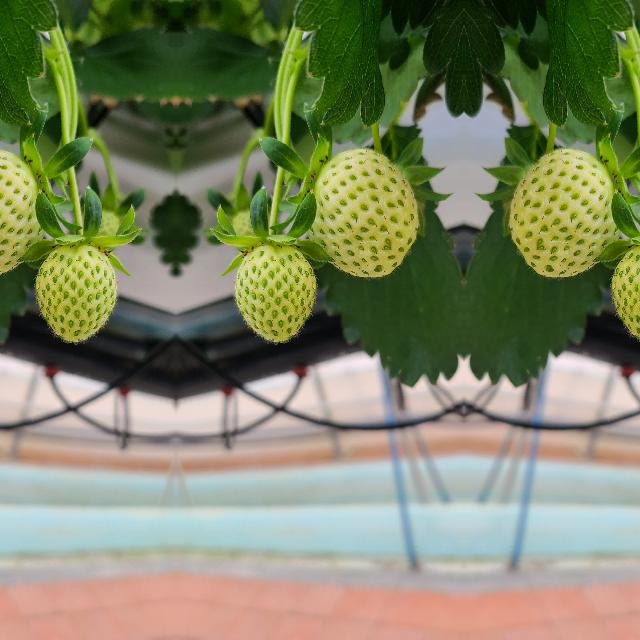Health_25: (309, 144, 419, 280), (507, 144, 617, 280), (234, 245, 316, 341), (34, 245, 116, 341), (0, 144, 41, 280), (610, 245, 640, 341)
